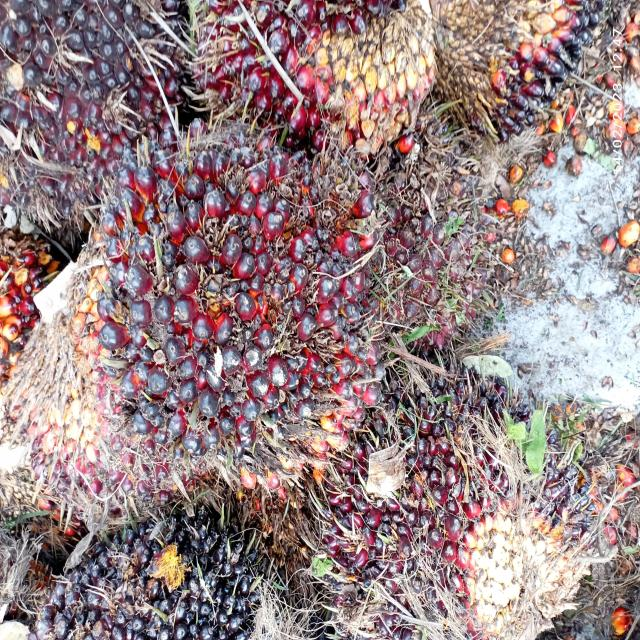fraksi 00: (11, 479, 274, 640)
fraksi 1: (78, 102, 383, 482), (334, 373, 595, 640), (328, 124, 510, 351)
